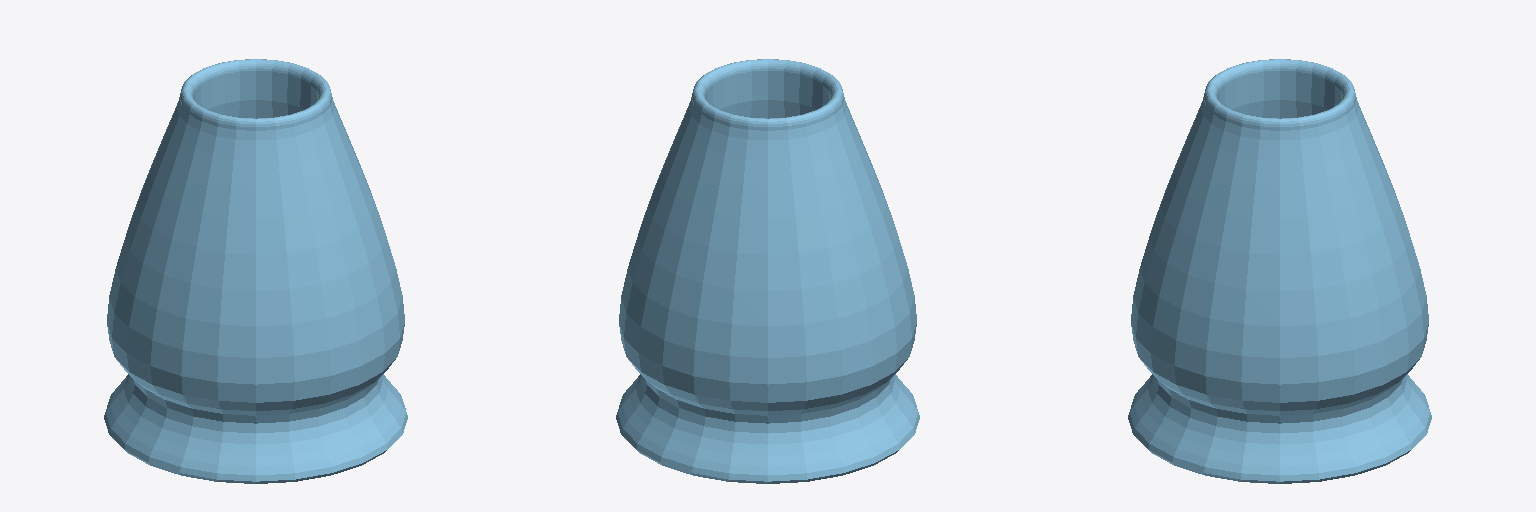
Rendered from vase.obj.
The picture shows the model from 3 angles: view 1: azimuth 30°, elevation 25°; view 2: azimuth 150°, elevation 25°; view 3: azimuth 270°, elevation 25°; orthographic projection.
Parts seen in each view (by area): view 1: glass_Mesh.003; view 2: glass_Mesh.003; view 3: glass_Mesh.003.
Boxes of the visible parts, x1,y1,x2,y2 form: glass_Mesh.003: [104, 59, 407, 483]; glass_Mesh.003: [616, 59, 919, 483]; glass_Mesh.003: [1128, 59, 1431, 483].
Size of the model in its own units: 0.041 by 0.0495 by 0.041.